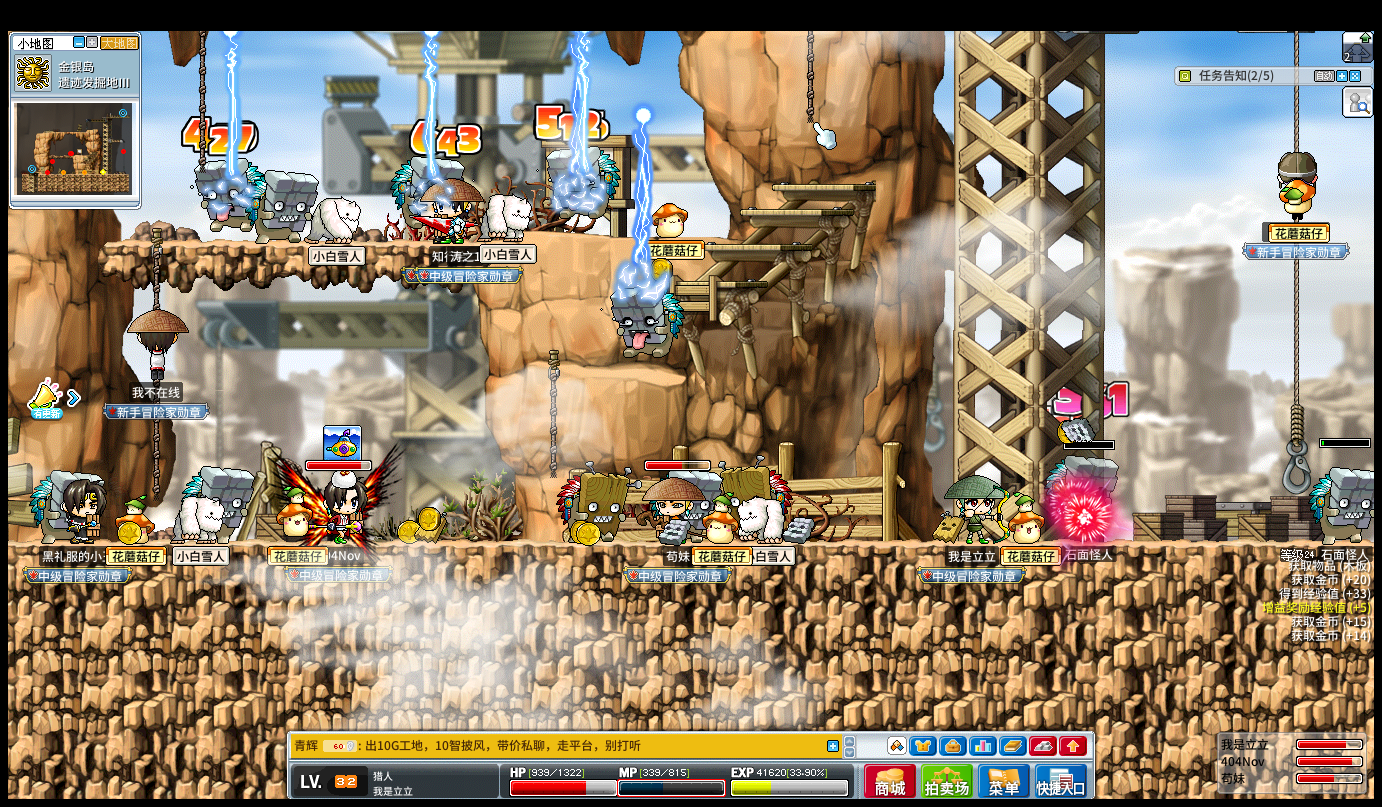floor: (104, 238, 485, 250), (578, 365, 689, 386), (738, 205, 852, 215), (736, 207, 848, 215), (610, 233, 735, 240), (697, 243, 810, 250), (771, 184, 875, 191), (673, 280, 766, 287)
monster: (1045, 455, 1120, 540), (556, 464, 633, 544), (608, 285, 684, 366), (193, 158, 266, 238), (545, 144, 618, 222), (1309, 466, 1376, 542), (263, 169, 317, 243), (391, 155, 435, 240), (29, 470, 69, 540), (720, 460, 786, 499)
rope: (544, 352, 559, 479), (547, 350, 561, 476), (1291, 257, 1302, 407), (152, 419, 164, 502), (150, 228, 162, 307), (804, 29, 813, 123), (1292, 29, 1299, 148), (151, 418, 160, 501), (1288, 400, 1304, 444), (198, 30, 205, 123)
